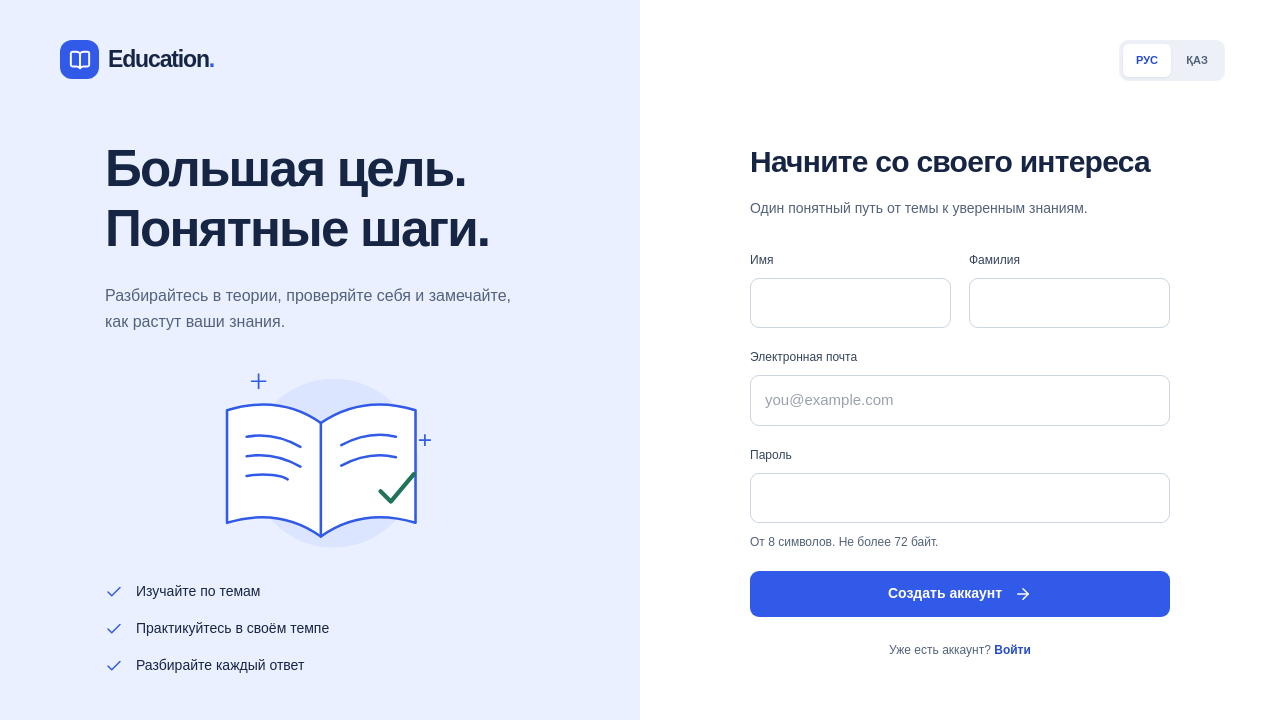
it: student entry flows › persists Kazakh choice and translates the complete form
Click the button "ҚАЗ".
click(1197, 60)  # box x1=1173 y1=44 x2=1221 y2=77
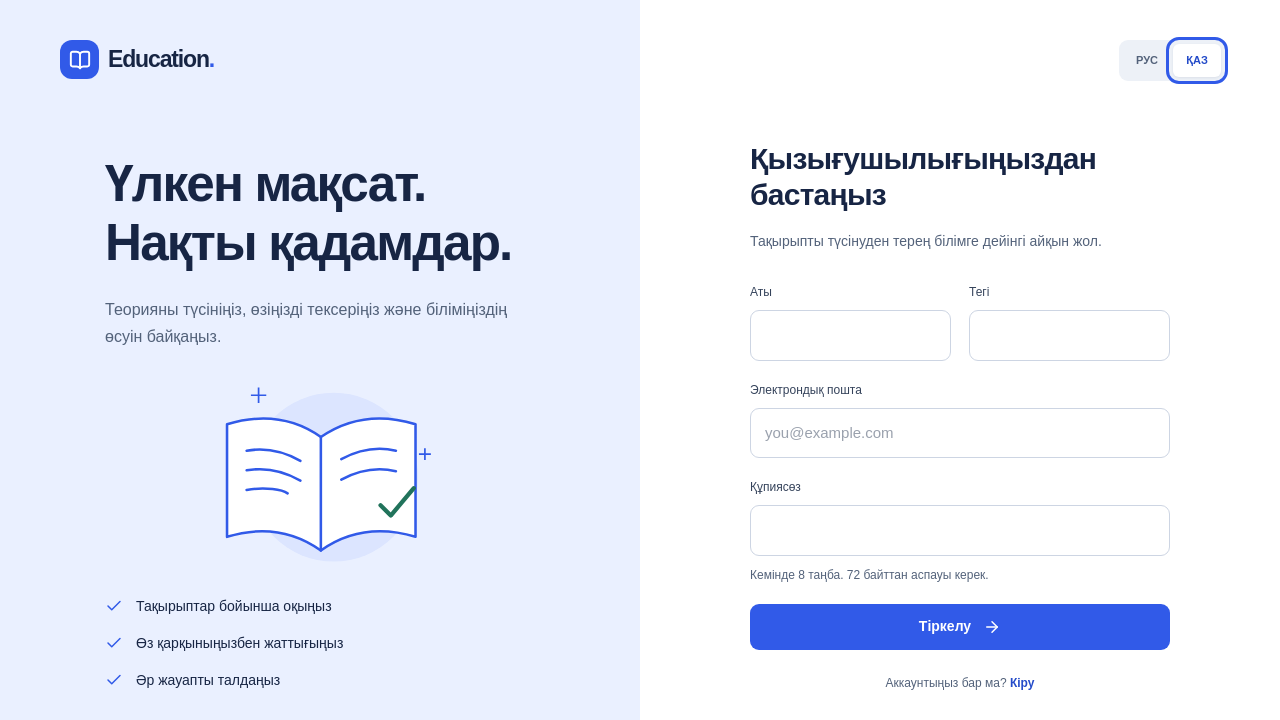
Expected: the password field labelled "Құпиясөз" is shown, x1=750 y1=505 x2=1170 y2=556
Now the button "Тіркелу" is shown, box x1=750 y1=604 x2=1170 y2=650
